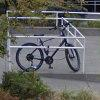Bicycle: (12, 25, 88, 77)
